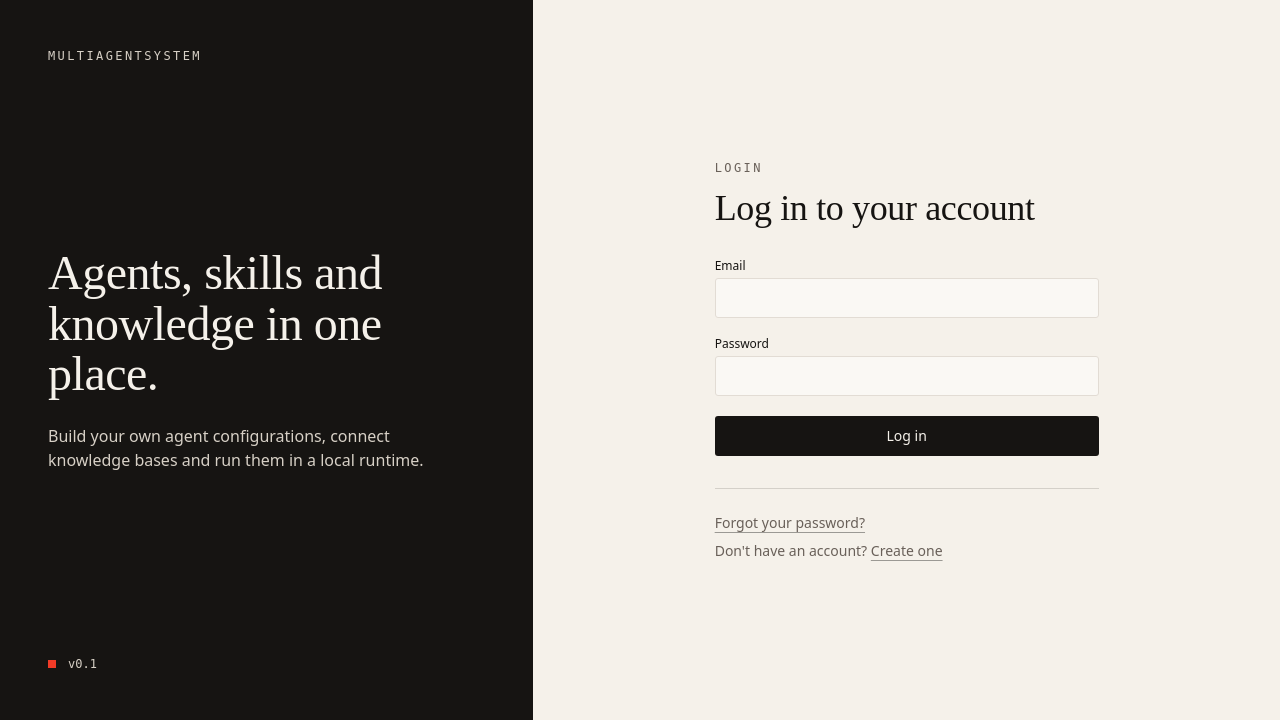
Scenario: login page › shows a clear message for invalid credentials
Type "alice@example.com" into the field labelled "Email" at (907, 298), box [715, 278, 1099, 318]
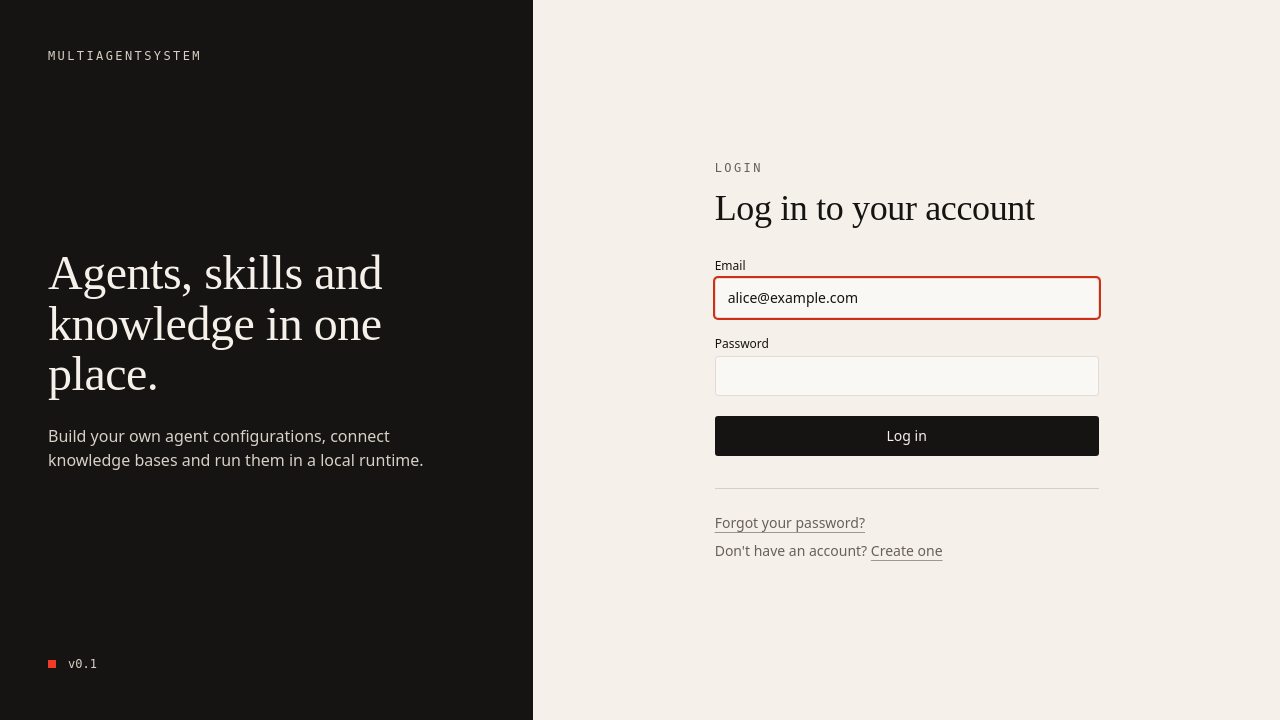
Type "wrongpass" into the password field labelled "Password" at (907, 376), box [715, 356, 1099, 396]
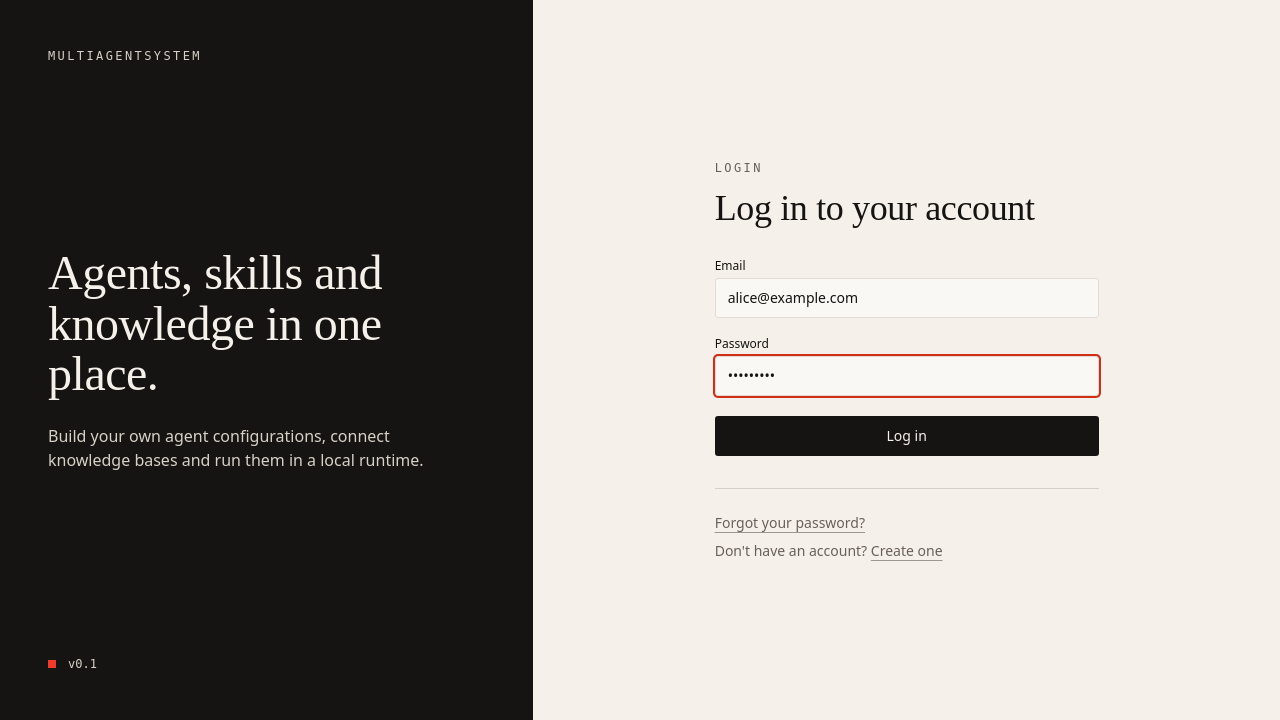
Click the button "Log in" at (907, 436), box [715, 416, 1099, 456]
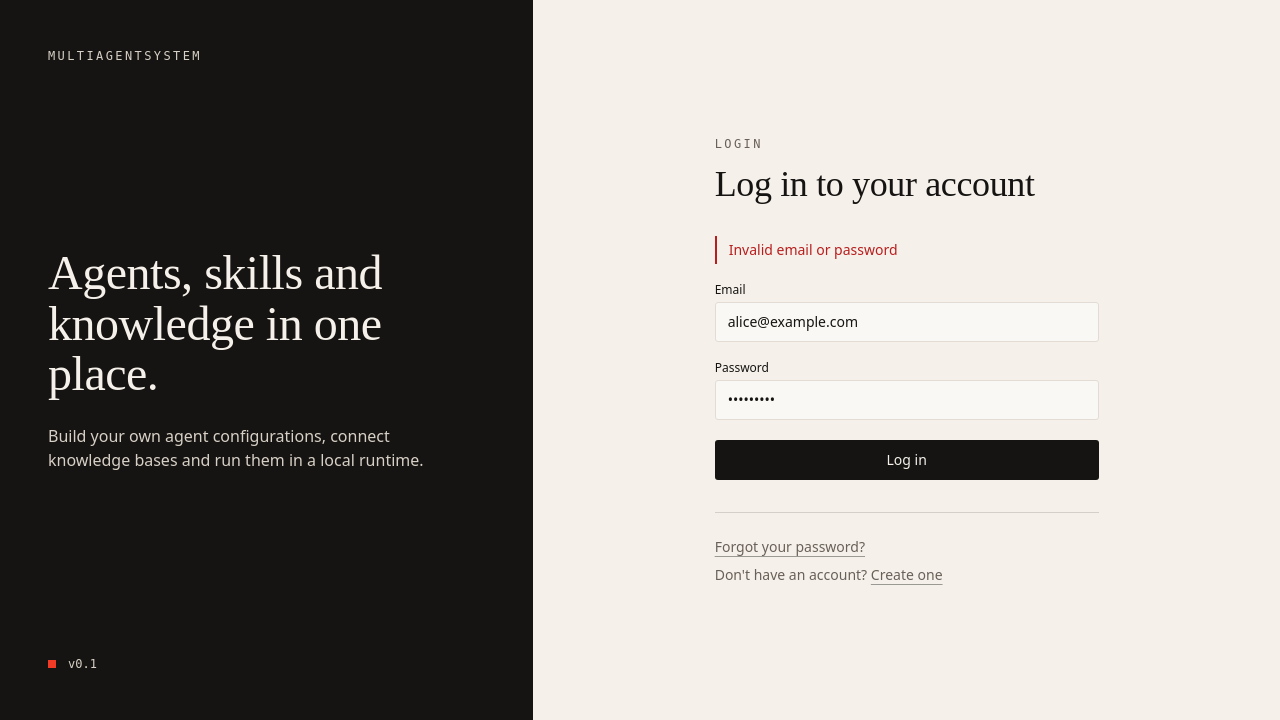
Result: the message reads "Invalid email or password" at [729, 240, 898, 258]
